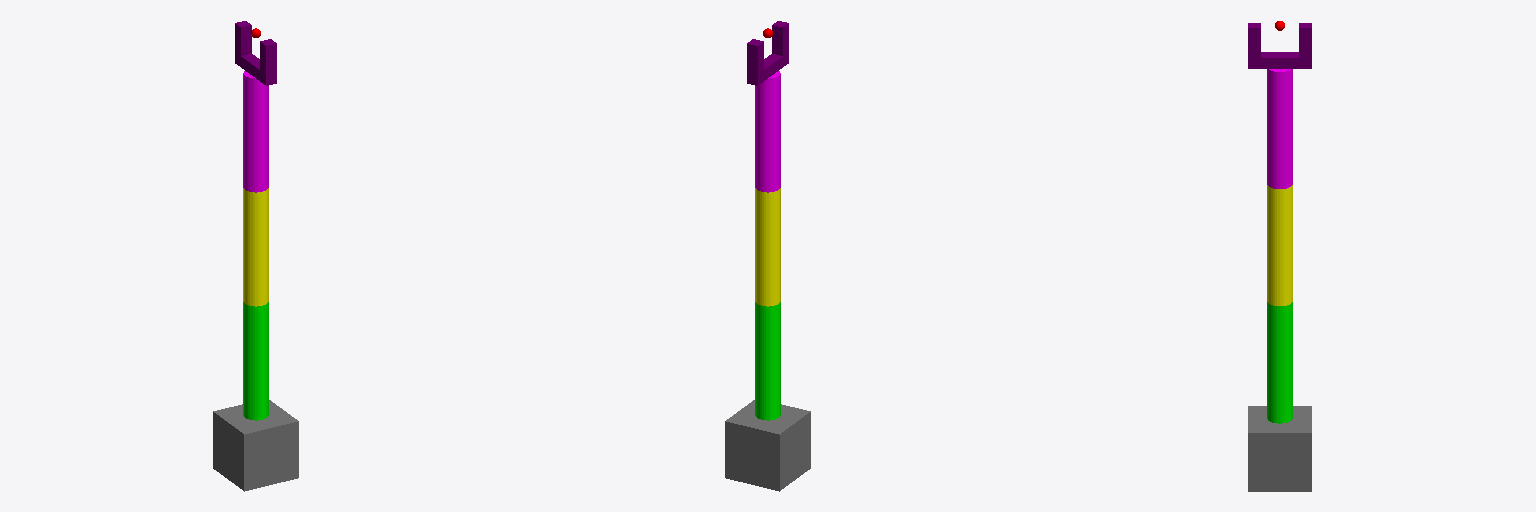
The robot description file, URDF, robot "new_robot":
<?xml version='1.0' encoding='utf-8'?>
<robot name="new_robot"><link name="base_link"><visual><origin xyz="0 0 0" rpy="0 0 0" /><geometry><box size="0.25 0.25 0.25" /></geometry><material name="gray"><color rgba="0.5 0.5 0.5 1" /></material></visual></link><joint name="joint0" type="prismatic"><parent link="base_link" /><child link="link0" /><axis xyz="0 1 0" /><origin xyz="0 0 0.13" rpy="0 0 0" /><limit lower="-1.57" upper="1.57" effort="10" velocity="1" /></joint><link name="link0"><visual><origin xyz="0 0 0.0" rpy="0 0 0" /><geometry><cylinder length="0" radius="0" /></geometry><material name="blue"><color rgba="0 0 1 1" /></material></visual><collision><origin xyz="0 0 0.0" rpy="0 0 0" /><geometry><cylinder length="0" radius="0" /></geometry></collision></link><joint name="joint1" type="revolute"><parent link="link0" /><child link="link1" /><axis xyz="1 0 0" /><origin xyz="0 0 0" rpy="0 0 0" /><limit lower="-1.57" upper="1.57" effort="10" velocity="1" /></joint><link name="link1"><visual><origin xyz="0 0 0.25" rpy="0 0 0" /><geometry><cylinder length="0.5" radius="0.05" /></geometry><material name="green"><color rgba="0 1 0 1" /></material></visual><collision><origin xyz="0 0 0.25" rpy="0 0 0" /><geometry><cylinder length="0.5" radius="0.05" /></geometry></collision></link><joint name="joint2" type="revolute"><parent link="link1" /><child link="link2" /><axis xyz="1 0 0" /><origin xyz="0 0 0.5" rpy="0 0 0" /><limit lower="-1.57" upper="1.57" effort="10" velocity="1" /></joint><link name="link2"><visual><origin xyz="0 0 0.25" rpy="0 0 0" /><geometry><cylinder length="0.5" radius="0.05" /></geometry><material name="yellow"><color rgba="1 1 0 1" /></material></visual><collision><origin xyz="0 0 0.25" rpy="0 0 0" /><geometry><cylinder length="0.5" radius="0.05" /></geometry></collision></link><joint name="joint3" type="revolute"><parent link="link2" /><child link="link3" /><axis xyz="1 0 0" /><origin xyz="0 0 0.5" rpy="0 0 0" /><limit lower="-1.57" upper="1.57" effort="10" velocity="1" /></joint><link name="link3"><visual><origin xyz="0 0 0.25" rpy="0 0 0" /><geometry><cylinder length="0.5" radius="0.05" /></geometry><material name="pink"><color rgba="1 0 1 1" /></material></visual><collision><origin xyz="0 0 0.25" rpy="0 0 0" /><geometry><cylinder length="0.5" radius="0.05" /></geometry></collision></link><joint name="wrist_joint" type="fixed"><parent link="link3" /><child link="wrist" /><axis xyz="0 0 1" /><origin xyz="0 0 0.525" rpy="0 0 0" /></joint><link name="wrist"><visual><origin xyz="0 0 0" rpy="0 0 0" /><geometry><box size="0.05 0.25 0.05" /></geometry><material name="purple"><color rgba="0.5 0 0.5 1" /></material></visual><collision><origin xyz="0 0 0" rpy="0 0 0" /><geometry><box size="0.05 0.25 0.05" /></geometry></collision></link><joint name="left_finger_joint" type="fixed"><parent link="wrist" /><child link="left_finger" /><axis xyz="0 0 1" /><origin xyz="0 -0.1 0.075" rpy="0 0 0" /></joint><link name="left_finger"><visual><origin xyz="0 0 0" rpy="0 0 0" /><geometry><box size="0.05 0.05 0.15" /></geometry><material name="purple"><color rgba="0.5 0 0.5 1" /></material></visual><collision><origin xyz="0 0 0" rpy="0 0 0" /><geometry><box size="0.05 0.05 0.15" /></geometry></collision></link><joint name="right_finger_joint" type="fixed"><parent link="wrist" /><child link="right_finger" /><axis xyz="0 0 1" /><origin xyz="0 0.1 0.075" rpy="0 0 0" /></joint><link name="right_finger"><visual><origin xyz="0 0 0" rpy="0 0 0" /><geometry><box size="0.05 0.05 0.15" /></geometry><material name="purple"><color rgba="0.5 0 0.5 1" /></material></visual><collision><origin xyz="0 0 0" rpy="0 0 0" /><geometry><box size="0.05 0.05 0.15" /></geometry></collision></link><link name="gripper_center"><visual><origin xyz="0 0 0" rpy="0 0 0" /><geometry><sphere radius="0.02" /></geometry><material name="red"><color rgba="1 0 0 1" /></material></visual></link><joint name="gripper_center_joint" type="fixed"><parent link="wrist" /><child link="gripper_center" /><axis xyz="0 0 1" /><origin xyz="0 0 0.15" rpy="0 0 0" /></joint></robot>

--- Render facts (derived) ---
The picture shows the robot from 3 angles, left to right: view 1: azimuth 30°, elevation 25°; view 2: azimuth 150°, elevation 25°; view 3: azimuth 270°, elevation 25°; orthographic projection.
Robot: new_robot — 9 links, 8 joints (3 revolute, 1 prismatic, 4 fixed); root link base_link; default pose: all joints at 0.
Visible links, largest first — view 1: base_link, link1, link2, link3, left_finger, wrist, right_finger; view 2: base_link, link1, link2, link3, right_finger, wrist, left_finger; view 3: base_link, link3, link1, link2, wrist.
Boxes of the visible links, x1,y1,x2,y2 form: base_link: (213, 400, 298, 491); link1: (243, 302, 268, 420); link2: (243, 188, 268, 306); link3: (243, 71, 268, 192); left_finger: (260, 39, 276, 79); wrist: (235, 53, 276, 85); right_finger: (235, 21, 251, 56); base_link: (725, 400, 810, 491); link1: (755, 302, 780, 420); link2: (755, 188, 780, 306); link3: (755, 71, 780, 192); right_finger: (747, 39, 763, 79); wrist: (747, 52, 788, 85); left_finger: (772, 21, 788, 55); base_link: (1248, 406, 1311, 491); link3: (1267, 69, 1292, 188); link1: (1267, 302, 1292, 423); link2: (1267, 185, 1292, 305); wrist: (1248, 52, 1311, 68).
Bounding box of the posed robot: 0.25 × 0.25 × 1.95 m (x, y, z).
Geometry: primitives only (box / cylinder / sphere), no mesh files.